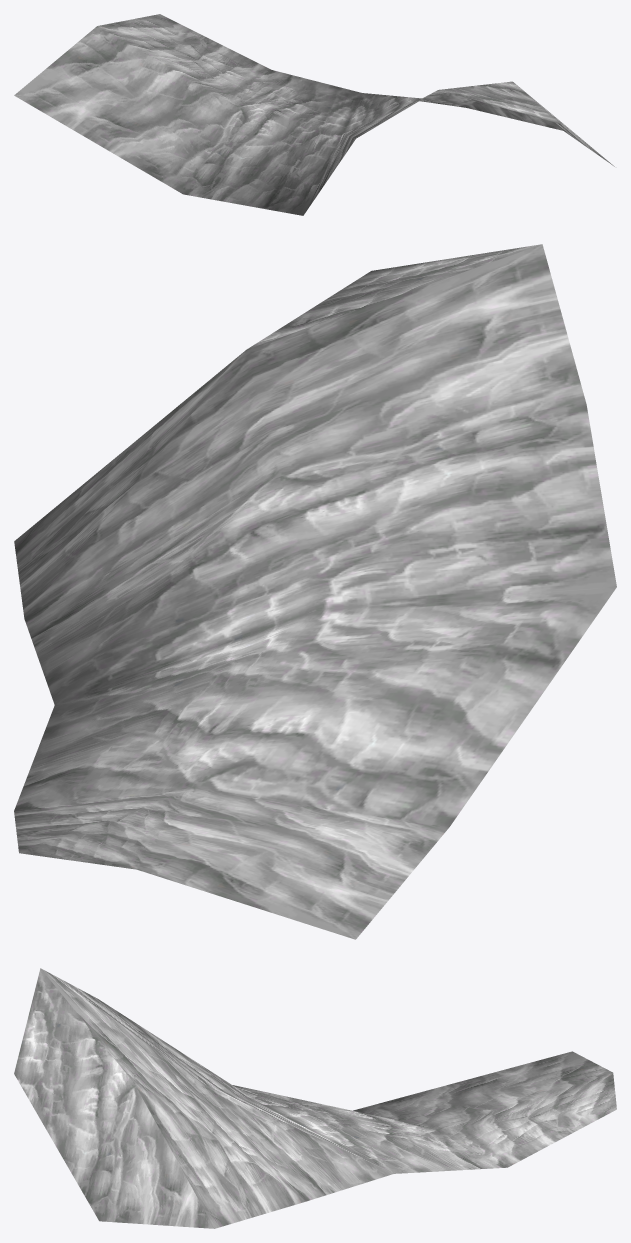
Rendered from SWORDLIGHT20_PS-AREA03_52.fbx.
3 renders of one model, top to bottom at view 1: azimuth 30°, elevation 25°; view 2: azimuth 150°, elevation 25°; view 3: azimuth 270°, elevation 25°, orthographic. The views are drawn at different scales.
Visible parts, largest first — view 1: SWORDLIGHT20_PS-AREA03_52; view 2: SWORDLIGHT20_PS-AREA03_52; view 3: SWORDLIGHT20_PS-AREA03_52.
Boxes of the visible parts, <box> form: SWORDLIGHT20_PS-AREA03_52: <box>14,14,614,215</box>; SWORDLIGHT20_PS-AREA03_52: <box>14,244,616,939</box>; SWORDLIGHT20_PS-AREA03_52: <box>14,968,616,1228</box>.
Size of the model in its own units: 99840 by 49417 by 139852.
Materials: 1 (1 with a texture image).
